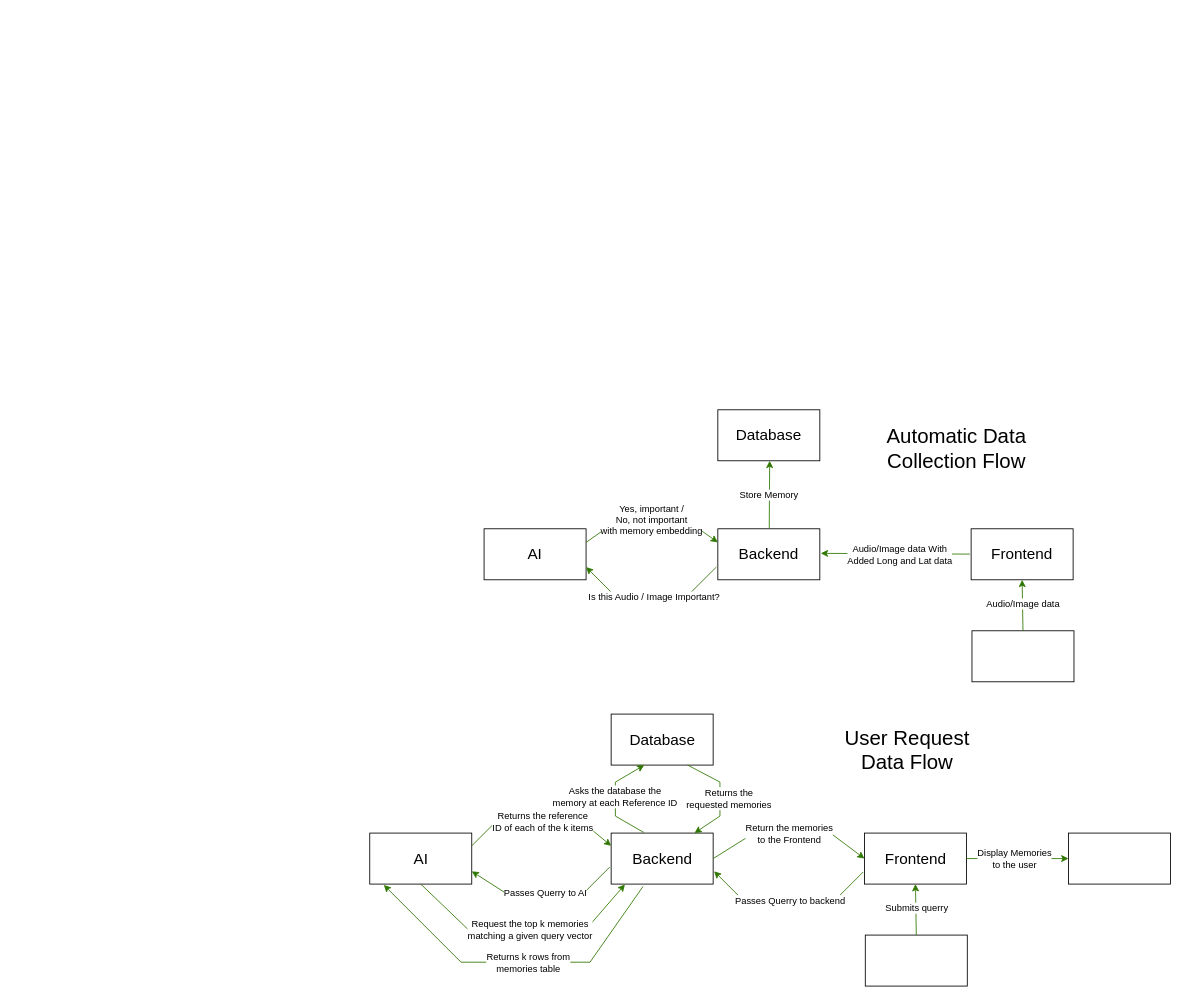
The diagram is 1186 pixels wide and 1001 high, and some of its shapes have lost their labels. The centre of each missing label's shape, as x and y in pixels:
Display: point 1119,858
Hardware: point 1022,656
User: point 915,960
